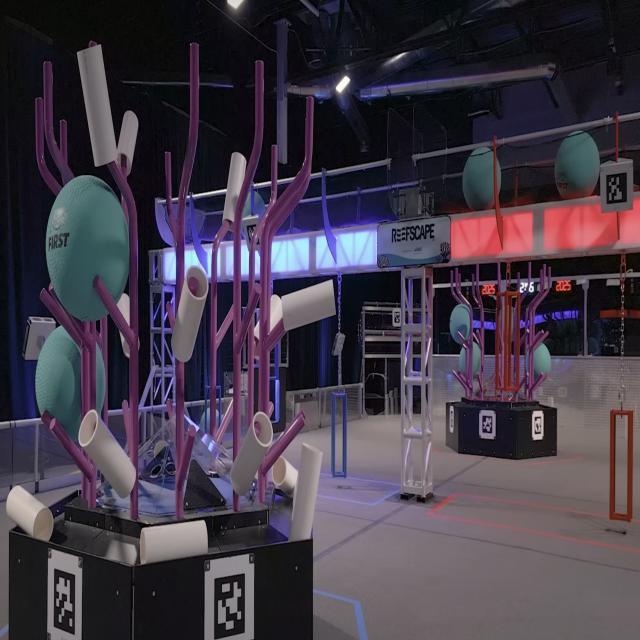Algae: (46, 175, 130, 320), (36, 325, 106, 443), (555, 130, 600, 200), (462, 147, 502, 210), (241, 191, 266, 240), (525, 342, 551, 382), (450, 304, 471, 344), (459, 342, 481, 379), (200, 408, 222, 440), (500, 305, 514, 343)
Coral: (78, 409, 136, 499), (77, 46, 117, 168), (230, 412, 273, 496), (172, 266, 208, 364), (291, 442, 323, 542), (140, 520, 208, 564), (282, 280, 336, 332), (6, 486, 54, 542), (222, 152, 247, 232), (116, 112, 139, 176), (116, 293, 139, 357), (253, 294, 283, 343), (272, 455, 298, 497)
Reef: (48, 282, 92, 351), (92, 274, 133, 348), (50, 418, 92, 483), (262, 414, 306, 475), (40, 288, 82, 350), (236, 283, 262, 352), (268, 409, 306, 455), (177, 426, 196, 488), (190, 42, 200, 140), (215, 399, 234, 446), (253, 61, 264, 142), (215, 303, 234, 349), (44, 62, 52, 147), (306, 96, 314, 177), (35, 99, 44, 168), (122, 400, 131, 456), (164, 152, 172, 204), (166, 300, 177, 332), (271, 145, 277, 198), (60, 120, 67, 162), (533, 372, 548, 391), (534, 331, 549, 350), (457, 330, 471, 350), (458, 371, 472, 391), (453, 370, 467, 390), (530, 330, 544, 350), (530, 372, 543, 392), (520, 329, 530, 346), (166, 398, 173, 419), (42, 410, 50, 428), (95, 330, 102, 350), (520, 372, 528, 389), (476, 371, 482, 391), (476, 329, 482, 348), (473, 332, 480, 347), (268, 401, 274, 418), (543, 264, 546, 290), (548, 266, 551, 291), (528, 262, 531, 286), (476, 264, 479, 286), (540, 270, 543, 291), (499, 330, 502, 351), (472, 274, 475, 293), (460, 369, 465, 379), (458, 274, 461, 290), (498, 262, 500, 283), (456, 268, 458, 289), (451, 271, 453, 291), (518, 272, 520, 290), (499, 374, 502, 386), (461, 344, 466, 350)
